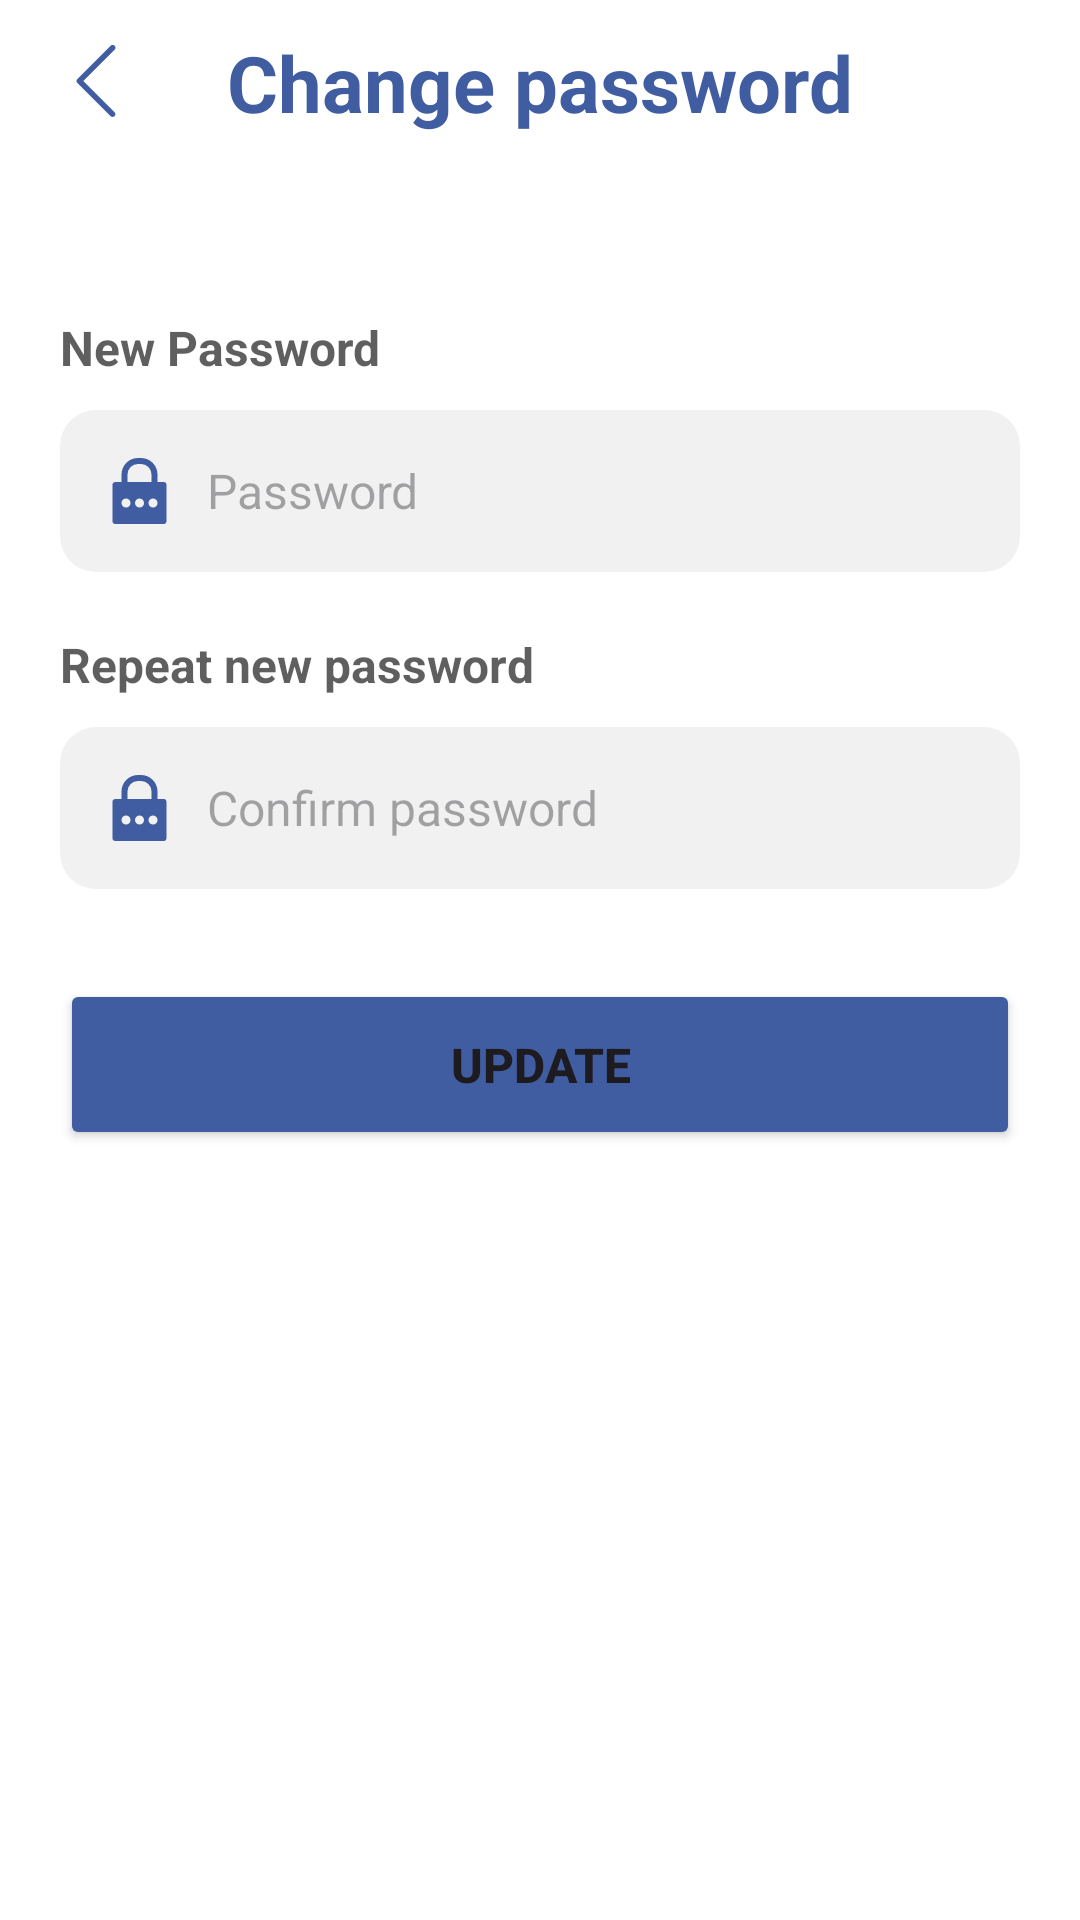

Icons on this 1080 × 1920 Android screen, each with the point to tap as (x,y):
back arrow: (96,81)
